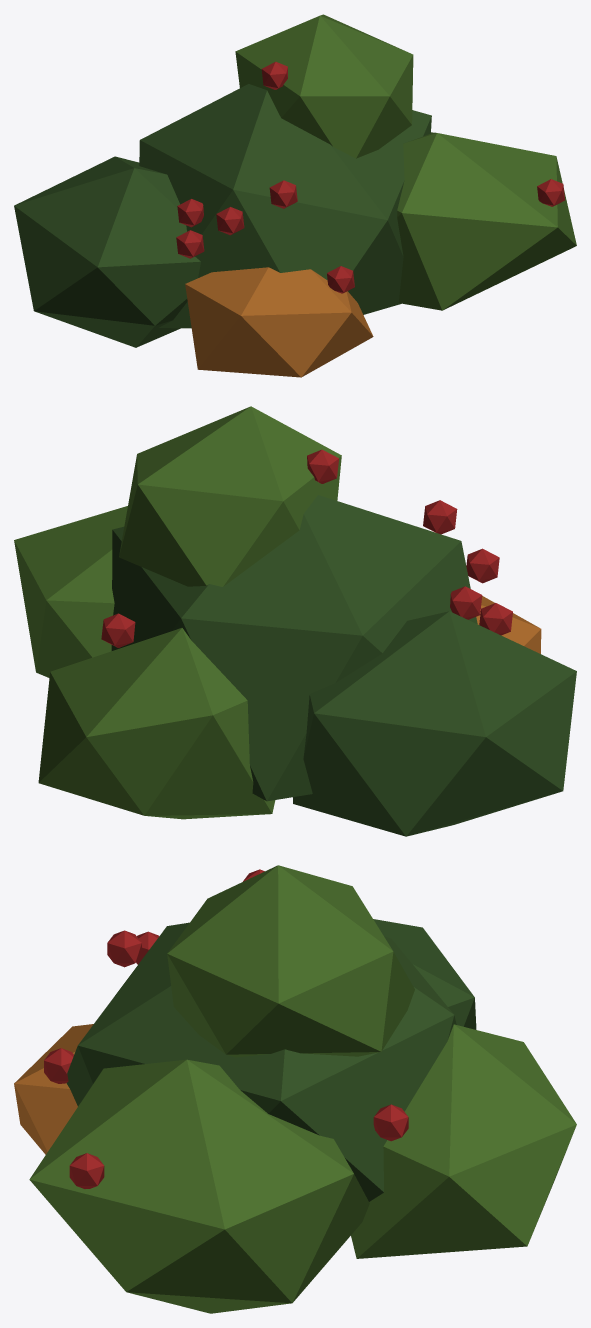
File: bush.glb
3 views of the same model, one above another, from view 1: azimuth 30°, elevation 25°; view 2: azimuth 150°, elevation 25°; view 3: azimuth 270°, elevation 25° (orthographic). The views are drawn at different scales.
Visible parts, largest first — view 1: bush; view 2: bush; view 3: bush.
Boxes of the visible parts, x1,y1,x2,y2 form: bush: (14,14,576,377); bush: (14,406,576,836); bush: (14,865,576,1313).
Size of the model in its own units: 1.95 by 1.13 by 1.52.
